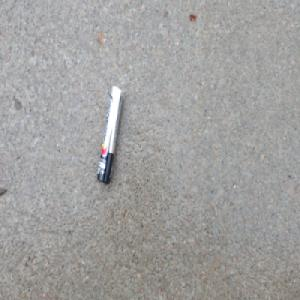Battery: (94, 83, 123, 186)
